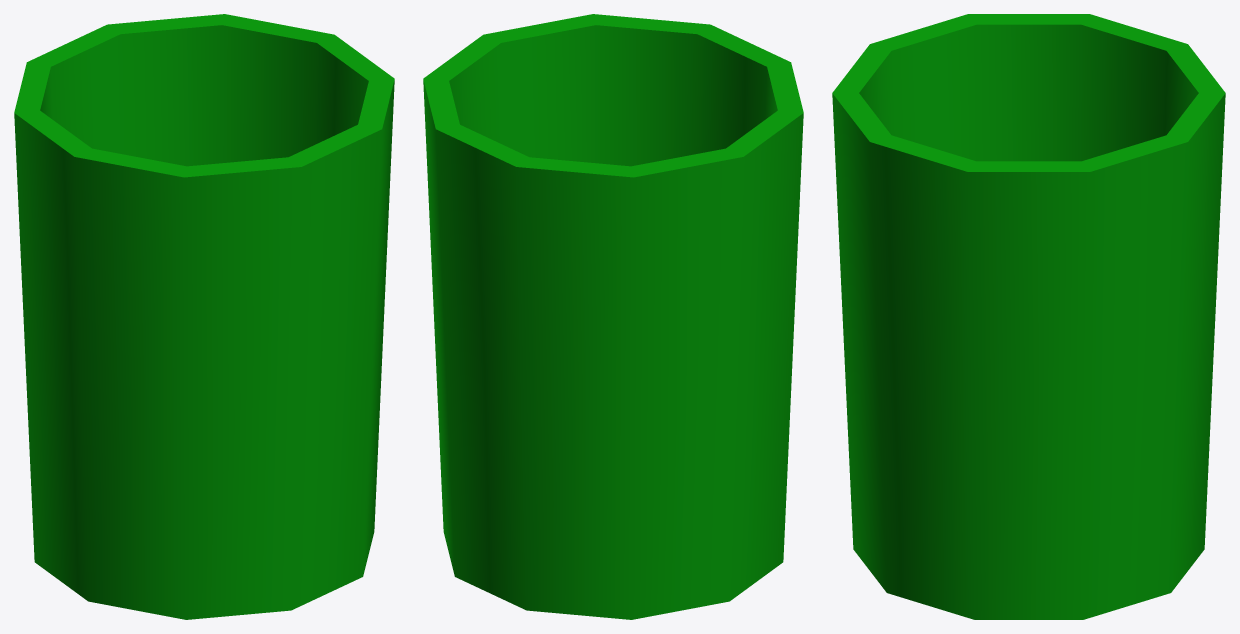
File: trashbin_01.fbx
3 renders of one model, left to right at view 1: azimuth 30°, elevation 25°; view 2: azimuth 150°, elevation 25°; view 3: azimuth 270°, elevation 25°, orthographic.
Visible parts, largest first — view 1: trashbin_01; view 2: trashbin_01; view 3: trashbin_01.
Boxes of the visible parts, <box> form: trashbin_01: <box>14,14,394,619</box>; trashbin_01: <box>423,14,803,619</box>; trashbin_01: <box>832,14,1225,619</box>.
Size of the model in its own units: 0.4384 by 0.59 by 0.461.
